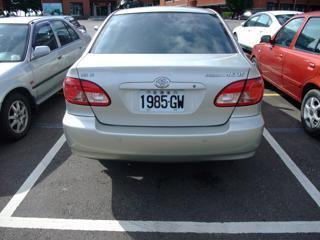plate: (136, 88, 187, 113)
